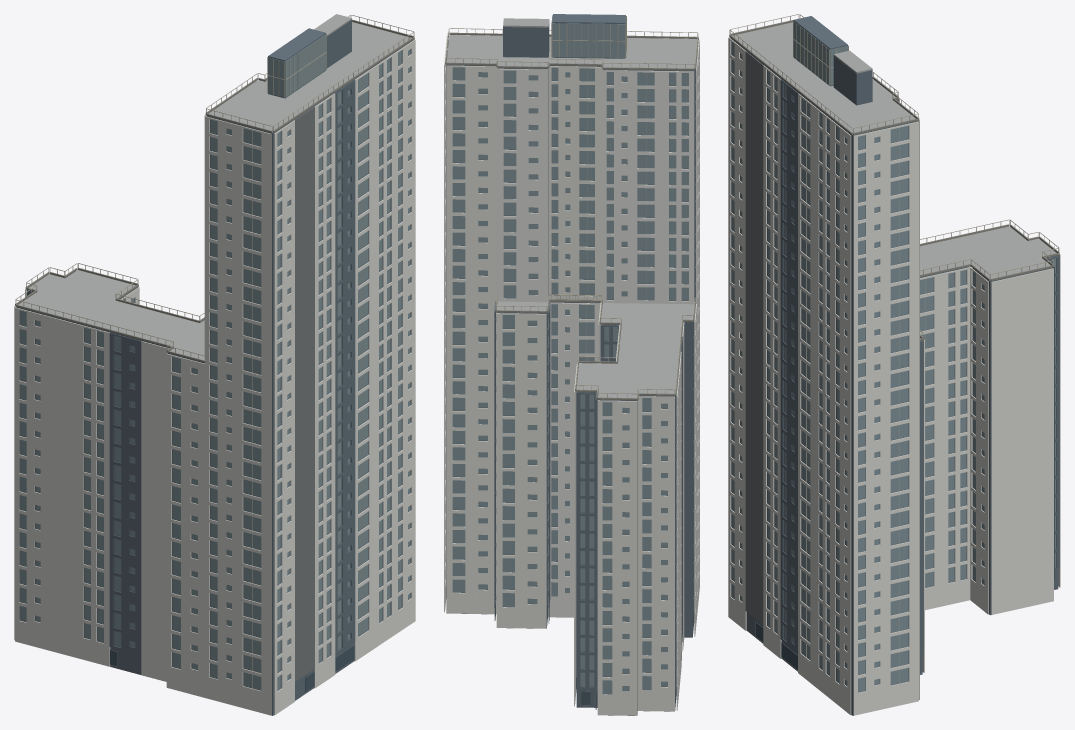
File: bespoke-raemian-onebailey-116.glb
3 views of the same model, side by side, from view 1: azimuth 30°, elevation 25°; view 2: azimuth 150°, elevation 25°; view 3: azimuth 270°, elevation 25° (orthographic). The views are drawn at different scales.
Parts seen in each view (by area): view 1: 116_pale_bays_navy_shafts_5, 116_pale_bays_navy_shafts_1, 116_editable_massing, 116_glass_roof_crown_4, 116_pale_bays_navy_shafts_6, 116_pale_bays_navy_shafts_3, 116_glass_roof_crown_1; view 2: 116_pale_bays_navy_shafts_5, 116_pale_bays_navy_shafts_1, 116_editable_massing, 116_glass_roof_crown_4, 116_pale_bays_navy_shafts_3, 116_glass_roof_crown_1; view 3: 116_pale_bays_navy_shafts_5, 116_pale_bays_navy_shafts_1, 116_editable_massing, 116_pale_bays_navy_shafts_6, 116_glass_roof_crown_4, 116_pale_bays_navy_shafts_3, 116_glass_roof_crown_1.
Boxes of the visible parts, <box> form: 116_pale_bays_navy_shafts_5: <box>14,38,415,715</box>; 116_pale_bays_navy_shafts_1: <box>19,34,410,690</box>; 116_editable_massing: <box>16,20,413,715</box>; 116_glass_roof_crown_4: <box>18,14,411,360</box>; 116_pale_bays_navy_shafts_6: <box>110,107,354,692</box>; 116_pale_bays_navy_shafts_3: <box>15,15,414,688</box>; 116_glass_roof_crown_1: <box>15,19,414,362</box>; 116_pale_bays_navy_shafts_5: <box>444,34,699,715</box>; 116_pale_bays_navy_shafts_1: <box>446,15,697,694</box>; 116_editable_massing: <box>446,14,695,715</box>; 116_glass_roof_crown_4: <box>446,18,697,400</box>; 116_pale_bays_navy_shafts_3: <box>445,15,698,573</box>; 116_glass_roof_crown_1: <box>445,32,698,400</box>; 116_pale_bays_navy_shafts_5: <box>728,29,1060,715</box>; 116_pale_bays_navy_shafts_1: <box>732,21,1055,692</box>; 116_editable_massing: <box>730,16,1059,715</box>; 116_pale_bays_navy_shafts_6: <box>745,51,797,670</box>; 116_glass_roof_crown_4: <box>732,22,1056,338</box>; 116_pale_bays_navy_shafts_3: <box>729,14,1059,683</box>; 116_glass_roof_crown_1: <box>729,20,1059,340</box>.
Bounding box in the file's own units: 55.74 × 103 × 49.94.
